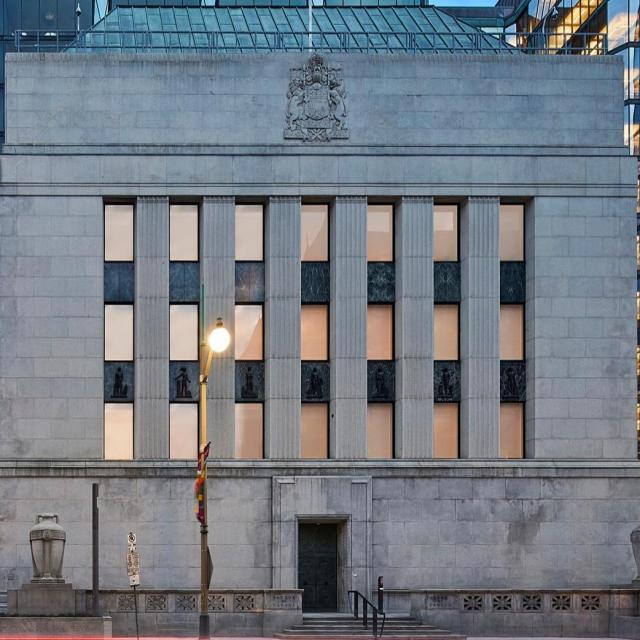door: (298, 523, 337, 612)
railing: (18, 26, 607, 56)
window: (90, 1, 485, 32), (102, 303, 131, 361), (171, 303, 200, 361), (366, 302, 395, 360), (498, 302, 527, 360), (367, 401, 396, 459), (298, 303, 327, 360), (103, 402, 132, 459), (167, 402, 196, 459), (236, 203, 264, 261), (300, 203, 328, 261), (435, 302, 463, 360), (104, 204, 132, 261), (168, 204, 196, 261), (368, 203, 396, 260), (436, 203, 464, 260), (500, 203, 528, 260), (235, 303, 263, 360), (236, 402, 264, 459), (300, 402, 328, 459), (436, 401, 464, 458), (500, 401, 528, 458)
